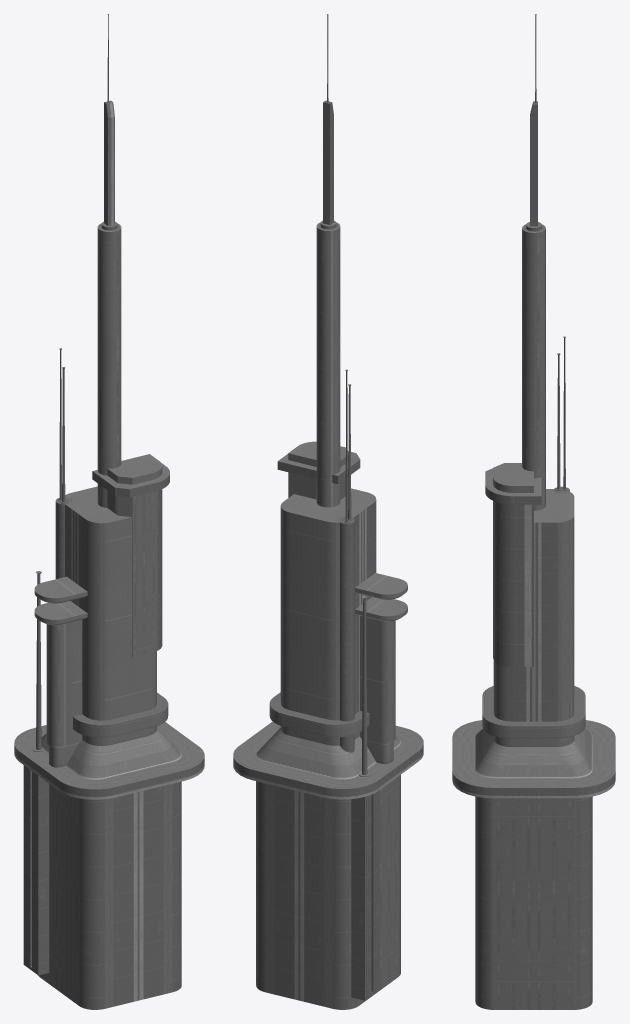
File: SM_antenna_01.glb
3 views of the same model, side by side, from view 1: azimuth 30°, elevation 25°; view 2: azimuth 150°, elevation 25°; view 3: azimuth 270°, elevation 25° (orthographic).
Visible parts, largest first — view 1: SM_antenna_01; view 2: SM_antenna_01; view 3: SM_antenna_01.
Part boxes in pixels (x1,y1,x2,y2): SM_antenna_01: (14,14,204,1009); SM_antenna_01: (233,14,423,1009); SM_antenna_01: (452,14,615,1009).
Size of the model in its own units: 17.68 by 114 by 17.28.
Materials: 1 (1 with a texture image).
